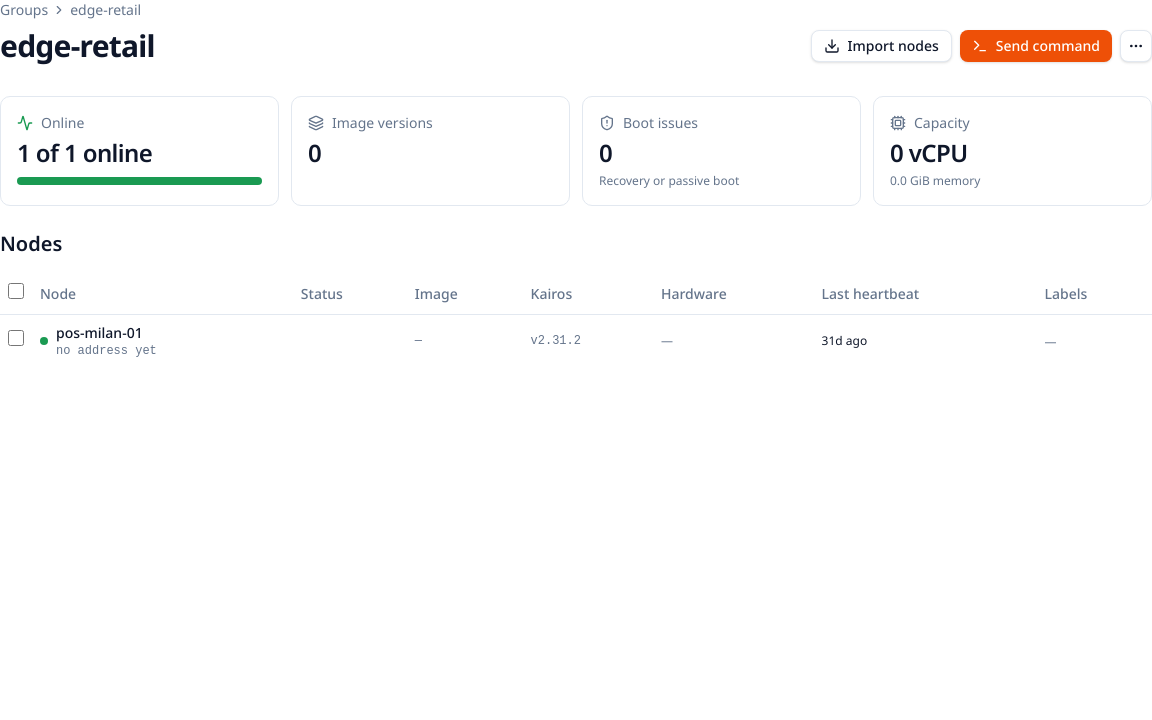
Test case: Group detail delete confirmation › counts the nodes the group holds, not the count the page loaded with
This screenshot has width=1152, height=720.
Expected: the heading "edge-retail" is shown, [0,28,155,64]
Press Enter in the button named "More actions", box [1120,30,1151,62]
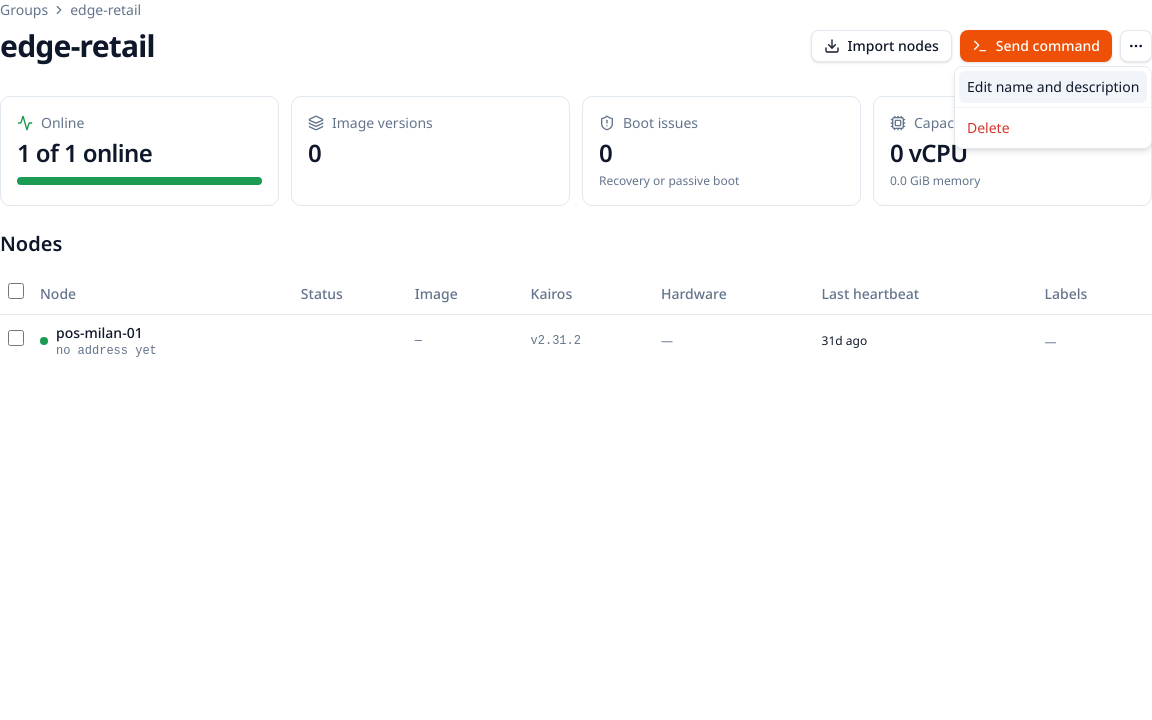
Click the menu item "Delete". click: [988, 128]
box: [967,118,1010,137]
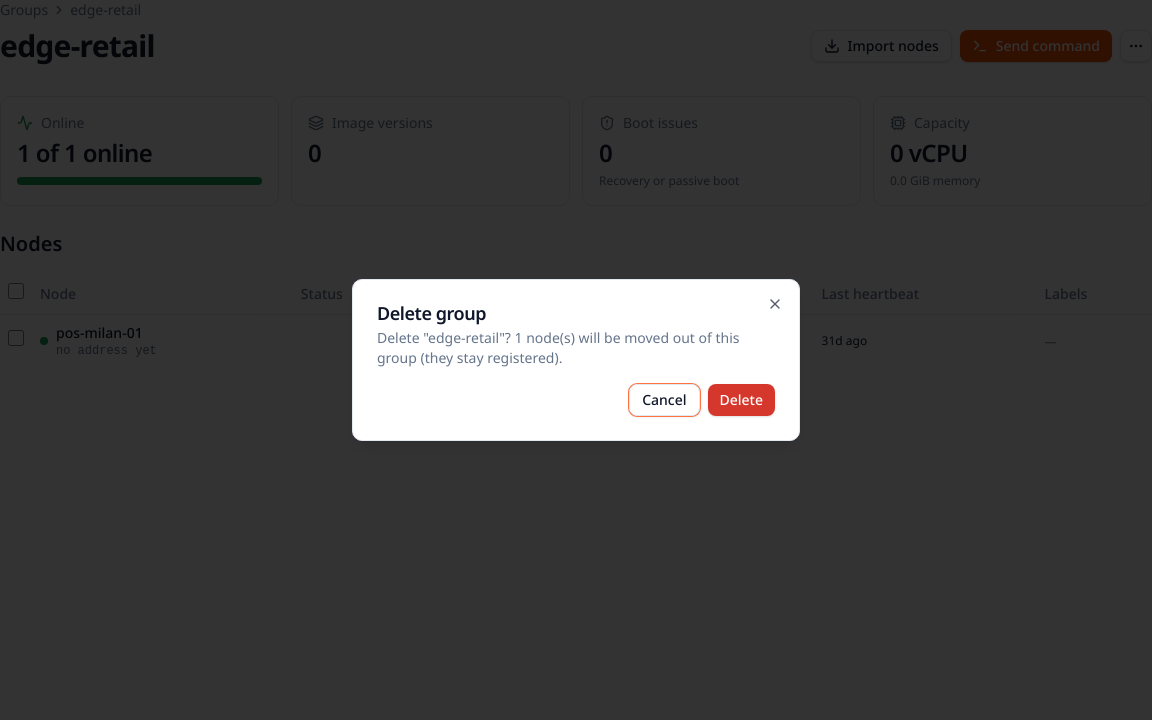
Now the dialog shows "Delete \"edge-retail\"? 1 node(s) will be moved out", box [377,328,740,367]
